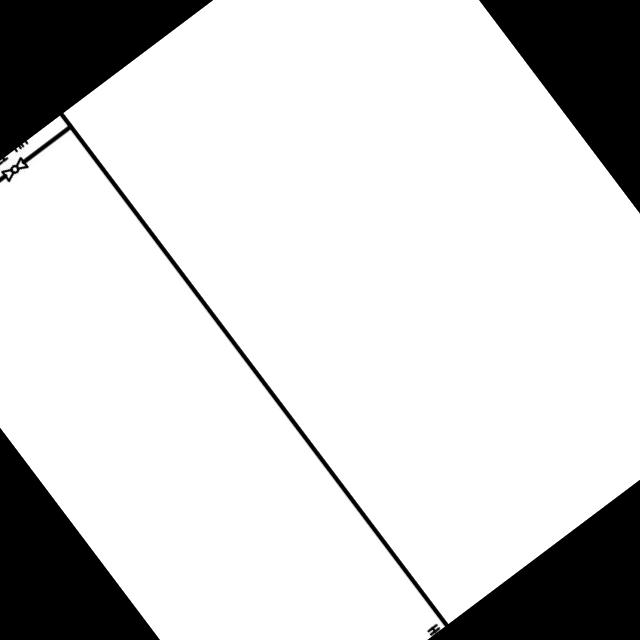BV2: (0, 150, 35, 185)
